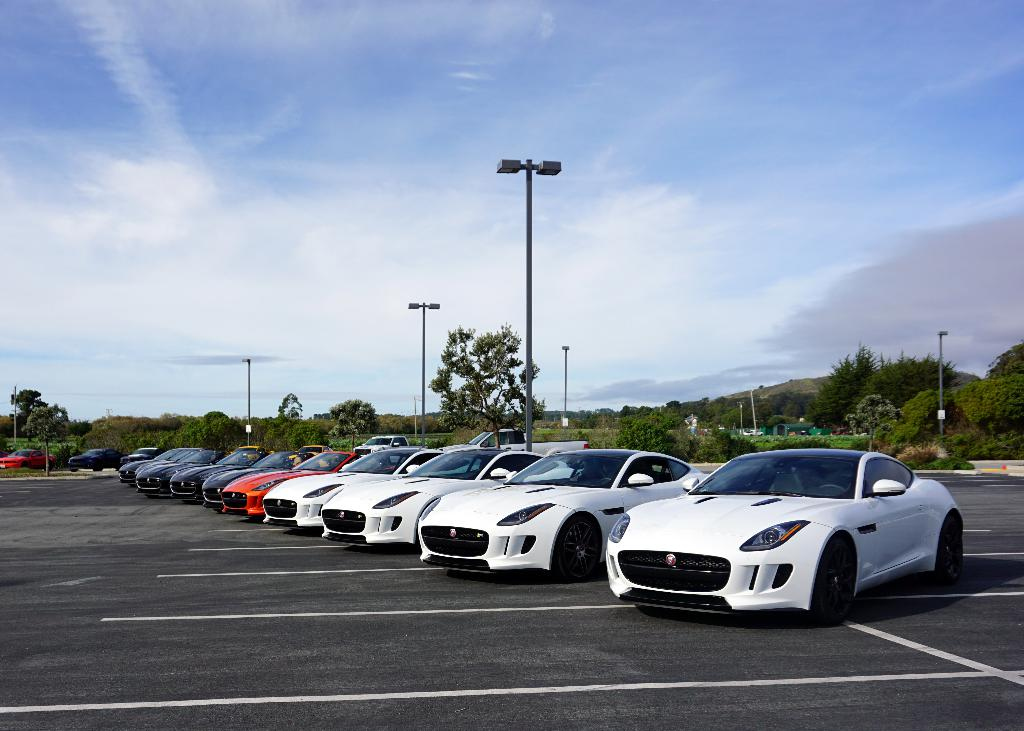mobil: (605, 442, 979, 648), (422, 447, 689, 568), (328, 434, 528, 550)
